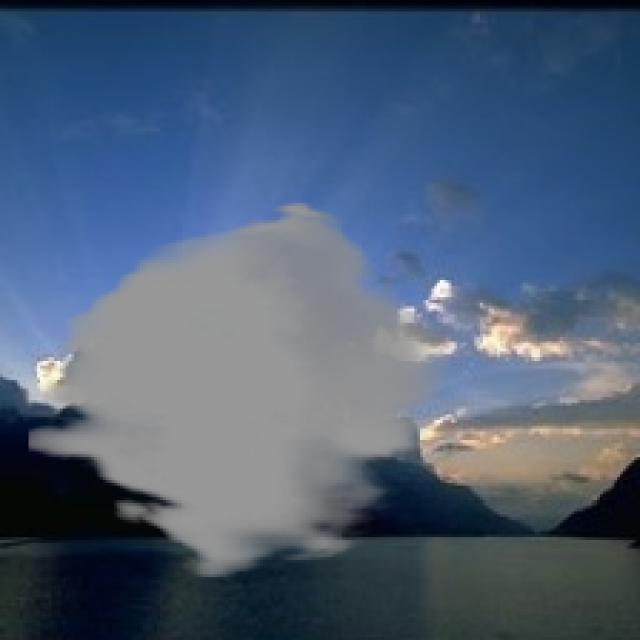Smoke: (29, 200, 448, 580)
